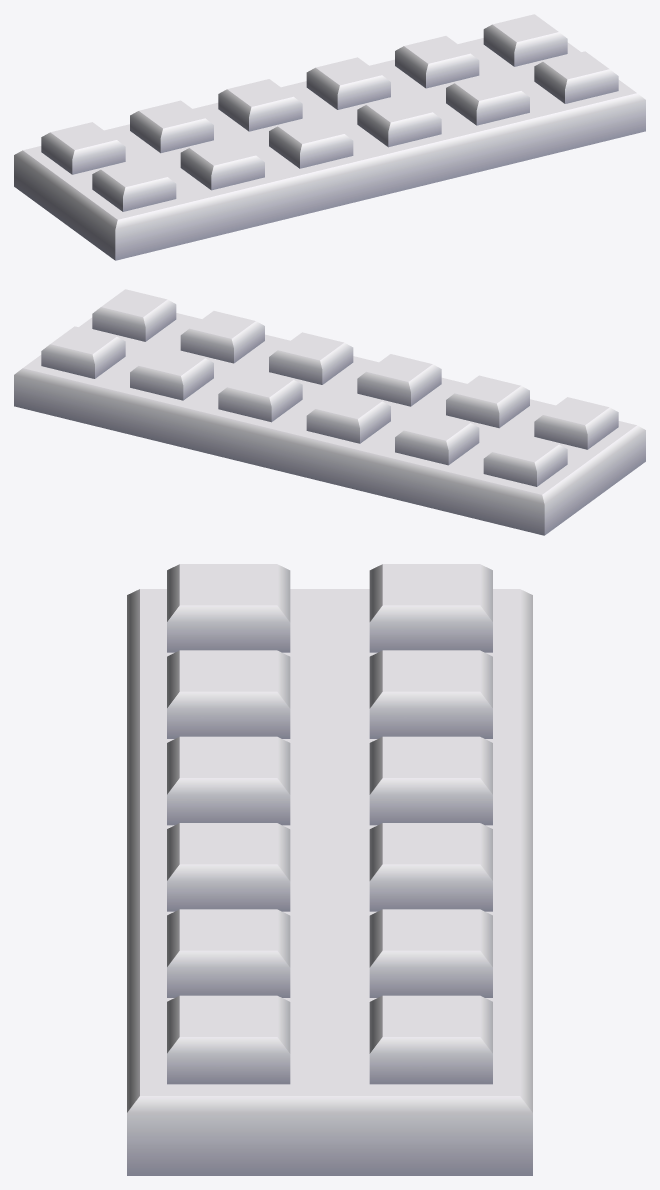
Rendered from kenney-brick-square-hq-plate-2-x-6.glb.
The picture shows the model from 3 angles, top to bottom: view 1: azimuth 30°, elevation 25°; view 2: azimuth 150°, elevation 25°; view 3: azimuth 270°, elevation 25°; orthographic projection. The views are drawn at different scales.
Visible parts, largest first — view 1: square-hq-plate-2x6; view 2: square-hq-plate-2x6; view 3: square-hq-plate-2x6.
Boxes of the visible parts, x1,y1,x2,y2 form: square-hq-plate-2x6: (14,14,645,260); square-hq-plate-2x6: (14,289,645,535); square-hq-plate-2x6: (127,564,532,1175).
Size of the model in its own units: 0.477 by 0.05 by 0.158.
Materials: 1 (1 with a texture image).
